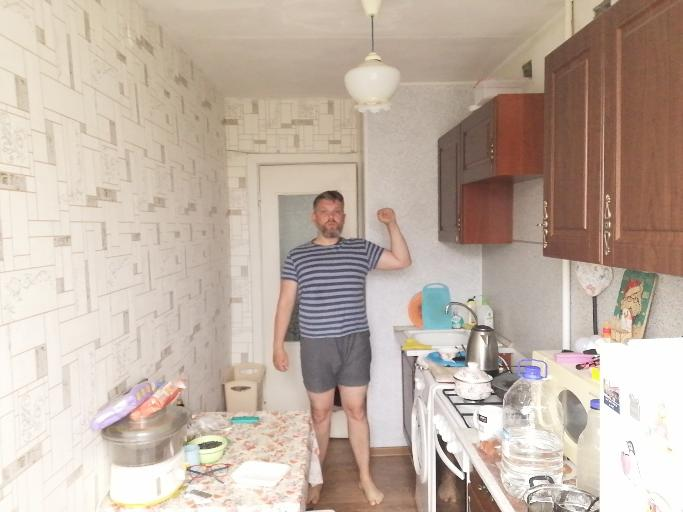fist: (374, 204, 399, 226)
no_gesture: (270, 345, 292, 374)
